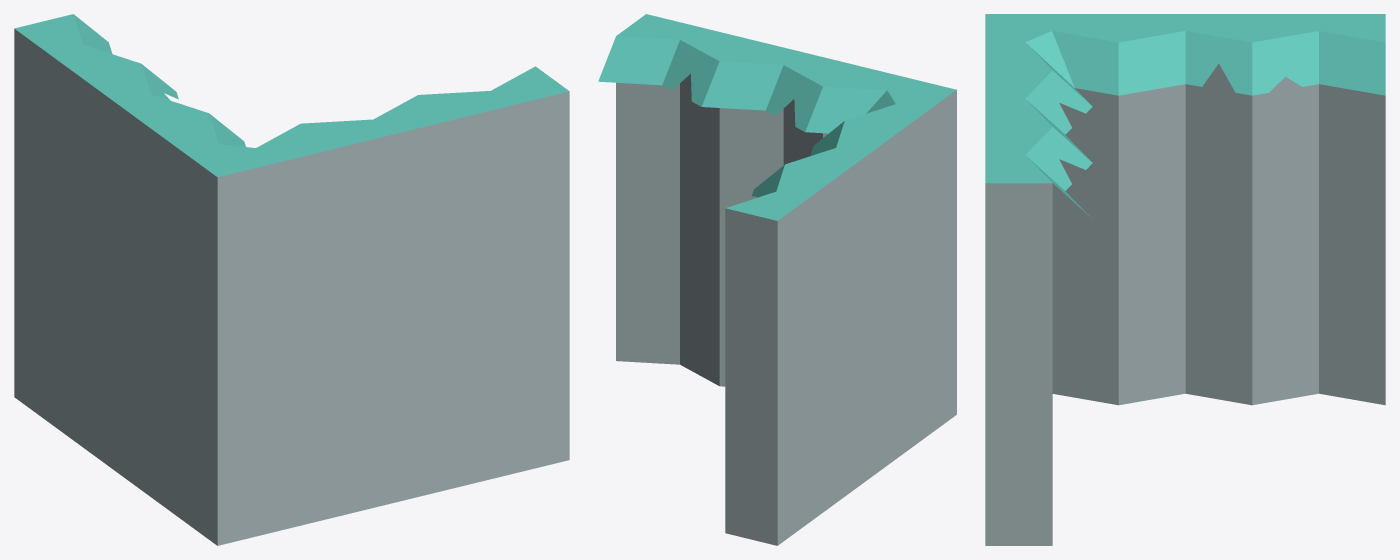
The model's file is cliff_cornerInnerTop_stone.glb.
The picture shows the model from 3 angles, left to right: view 1: azimuth 30°, elevation 25°; view 2: azimuth 150°, elevation 25°; view 3: azimuth 270°, elevation 25°; orthographic projection. The views are drawn at different scales.
Parts seen in each view (by area): view 1: cliff_cornerInnerTop_stone; view 2: cliff_cornerInnerTop_stone; view 3: cliff_cornerInnerTop_stone.
Boxes of the visible parts, x1,y1,x2,y2 form: cliff_cornerInnerTop_stone: (14, 14, 569, 545); cliff_cornerInnerTop_stone: (598, 14, 956, 545); cliff_cornerInnerTop_stone: (985, 14, 1385, 545).
Size of the model in its own units: 1 by 1 by 1.
